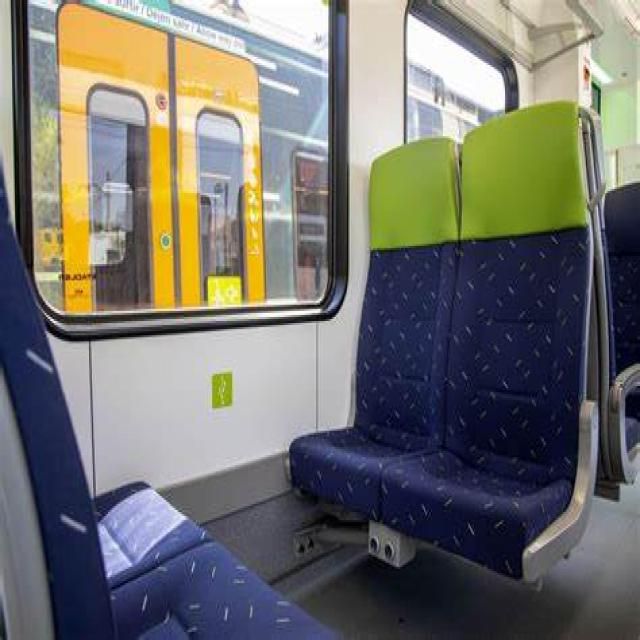seient: (381, 102, 598, 580), (290, 139, 459, 519)
